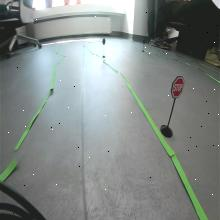stop: (170, 75, 185, 99)
